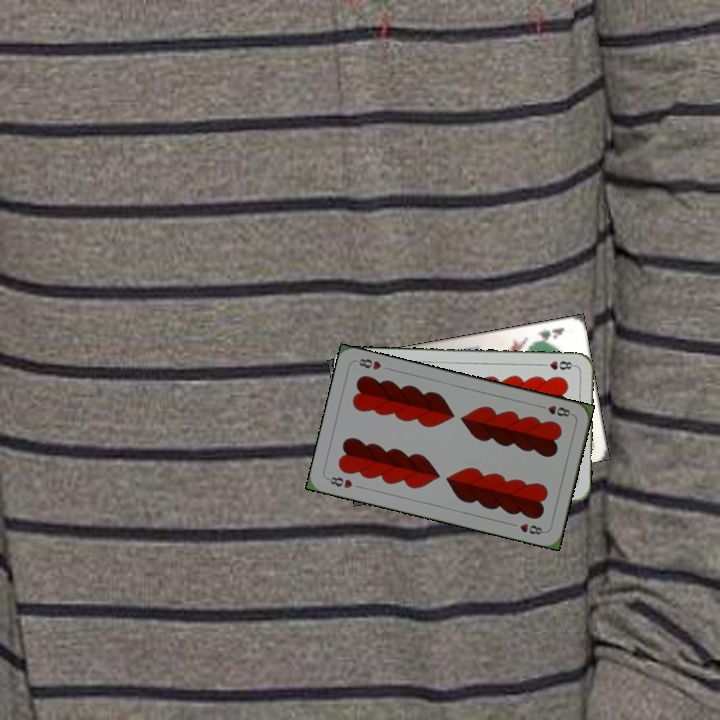GK: (531, 323, 567, 345)
H8: (535, 401, 575, 420), (537, 357, 577, 372), (323, 473, 355, 491)
